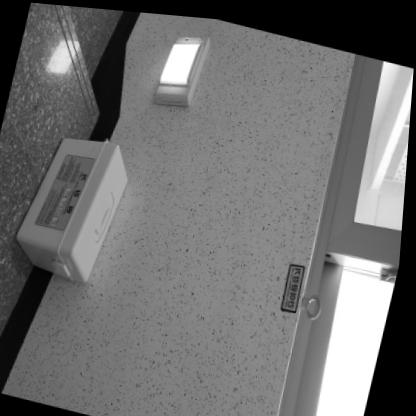DDL: (11, 120, 139, 287)
